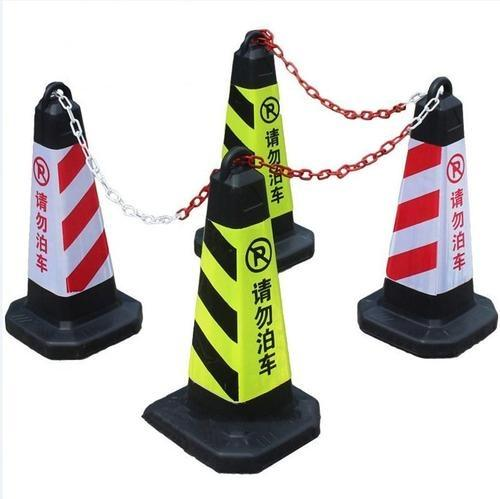cone_barrel: (167, 141, 315, 442), (9, 83, 143, 354), (363, 75, 497, 344), (215, 37, 306, 249)
